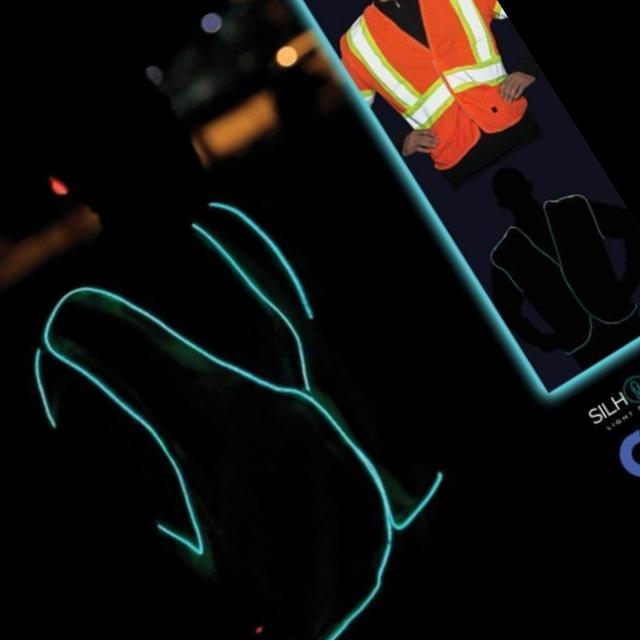safety_vest: (334, 0, 548, 191)
